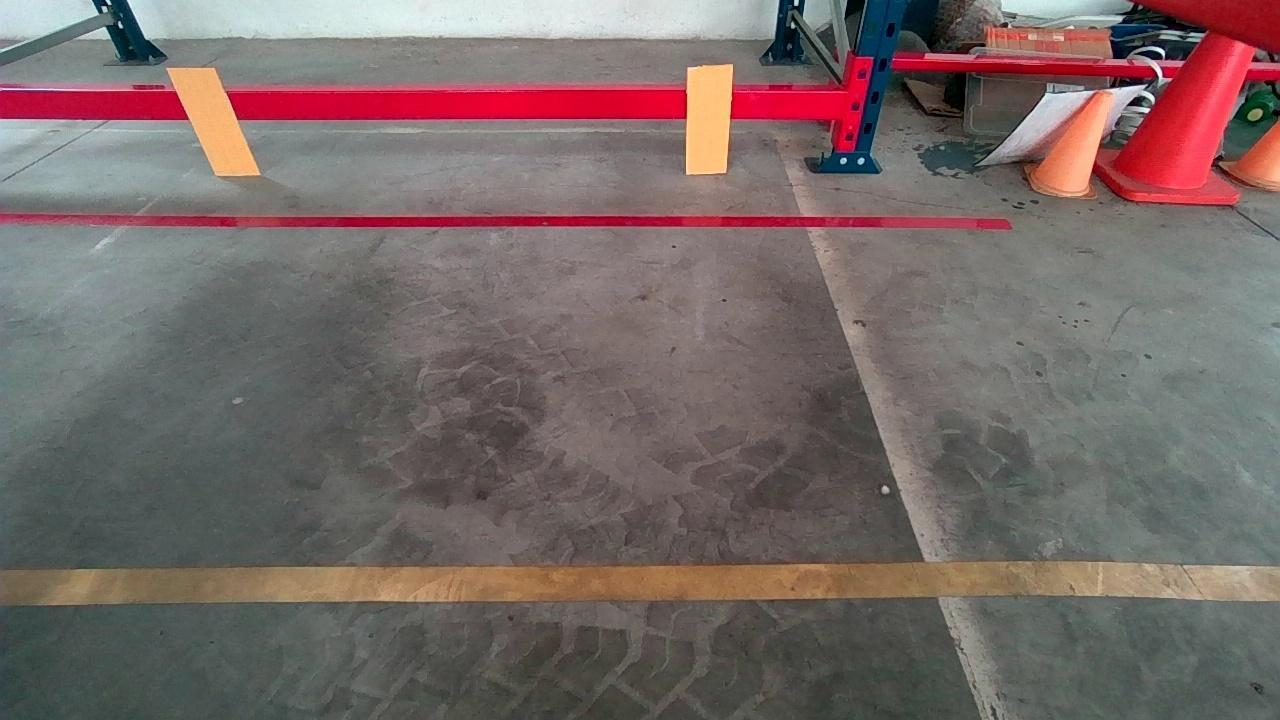h_rack: (0, 80, 841, 121)
orange_strip: (167, 66, 260, 175), (686, 66, 732, 171)
yellow_line: (5, 555, 1280, 612)
